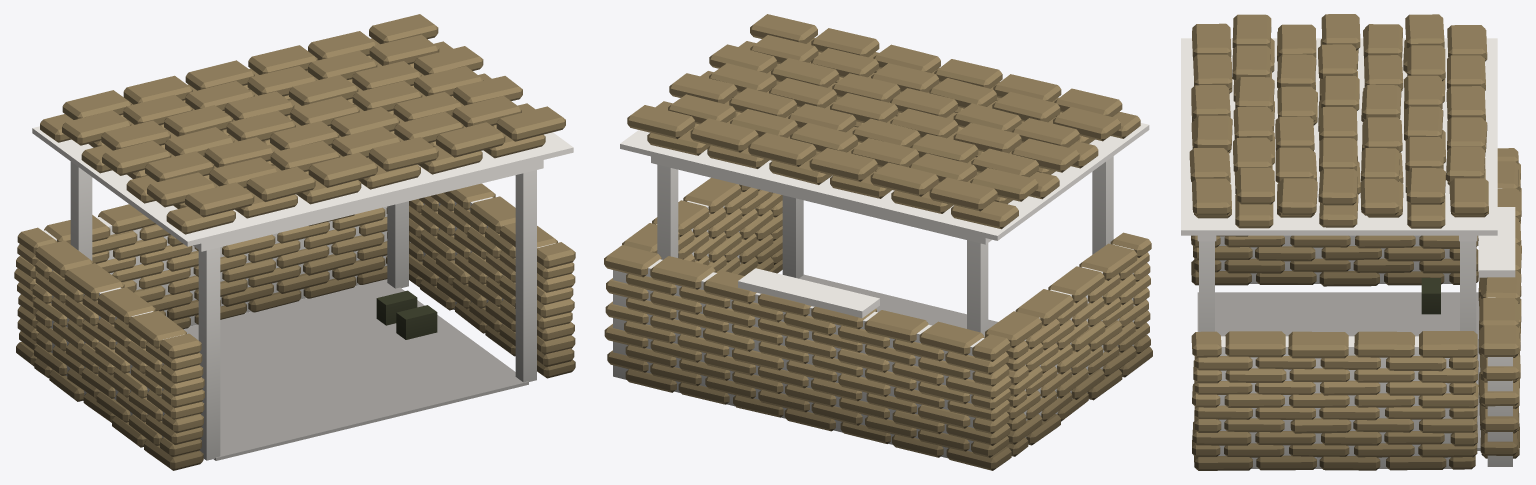
File: mg_emplacement.glb
The picture shows the model from 3 angles, left to right: view 1: azimuth 30°, elevation 25°; view 2: azimuth 150°, elevation 25°; view 3: azimuth 270°, elevation 25°; orthographic projection. The views are drawn at different scales.
Visible parts, largest first — view 1: mg_emplacement_LOD0; view 2: mg_emplacement_LOD0; view 3: mg_emplacement_LOD0.
Part boxes in pixels (x1,y1,x2,y2): mg_emplacement_LOD0: [14, 14, 575, 470]; mg_emplacement_LOD0: [604, 14, 1152, 470]; mg_emplacement_LOD0: [1181, 14, 1521, 470].
Size of what is drawn, in the model's own units: 4.18 by 2.54 by 2.96.
